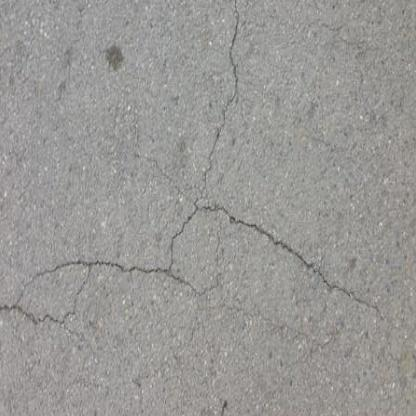Cracks: (147, 163, 400, 327), (0, 238, 230, 340), (186, 0, 277, 244), (54, 310, 110, 370)
